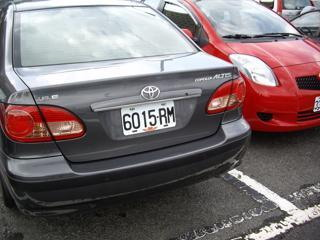plate: (118, 99, 178, 133)
